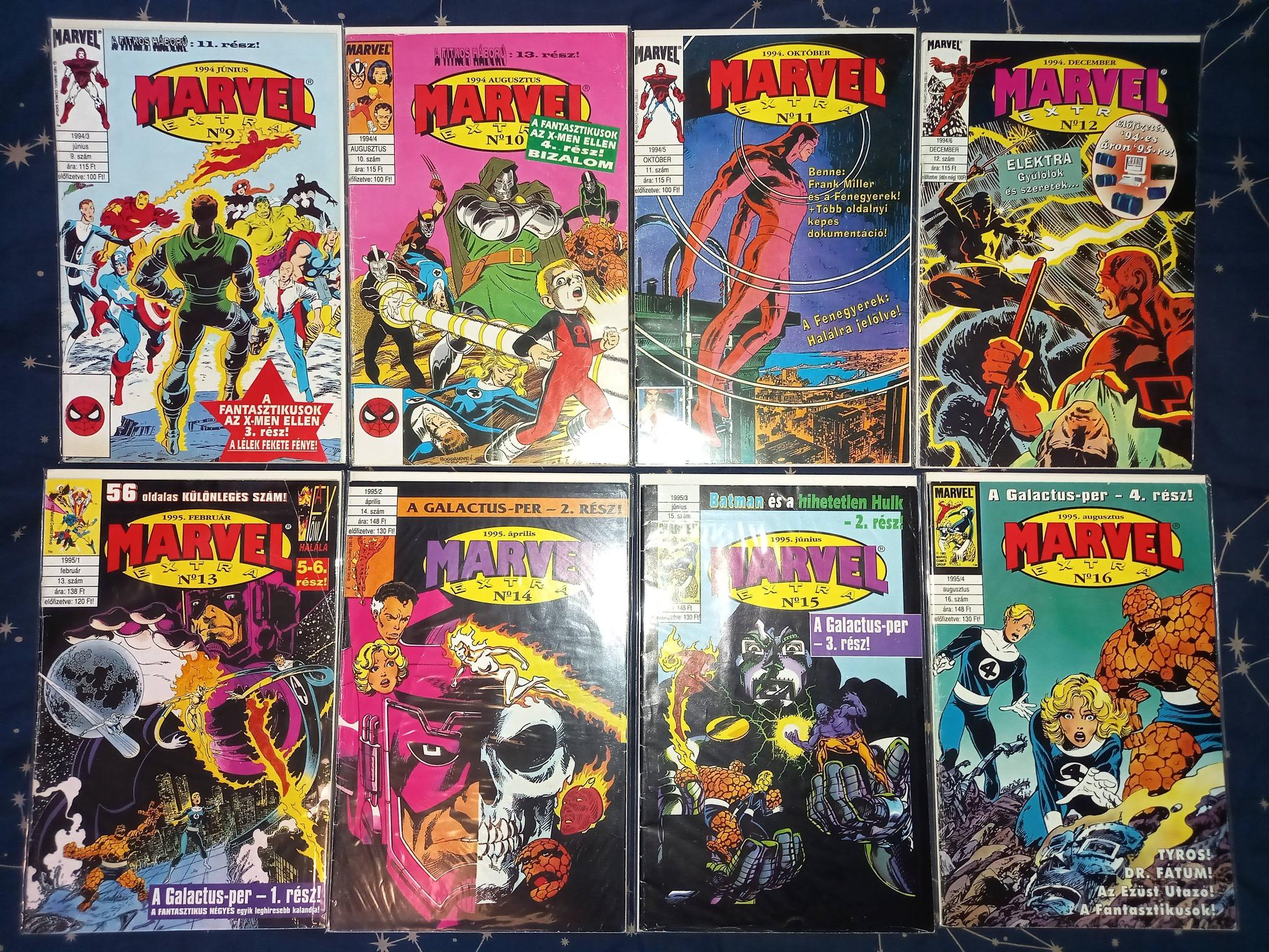comic: (19, 456, 350, 948), (921, 460, 1235, 941), (331, 470, 631, 933), (637, 474, 935, 932), (50, 15, 348, 467), (343, 26, 630, 466), (631, 29, 915, 464), (915, 33, 1198, 468)
